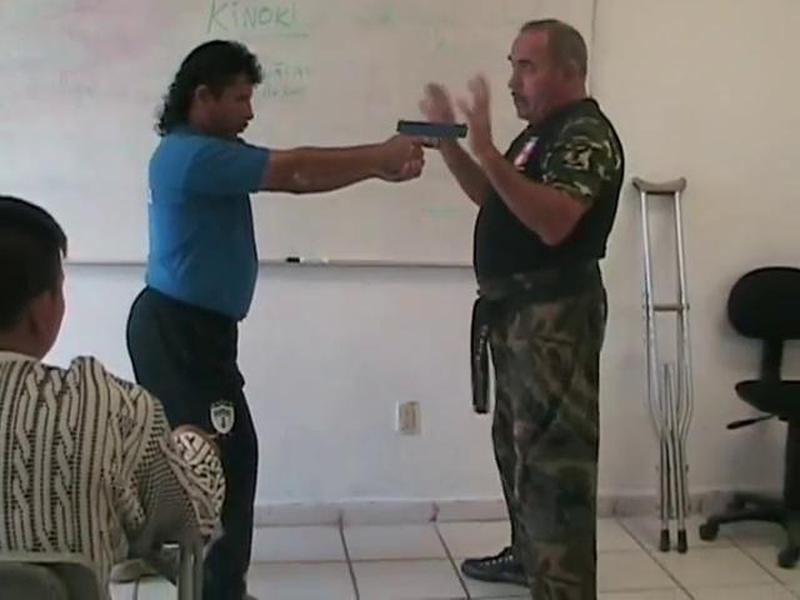Pistola: (391, 110, 474, 165)
